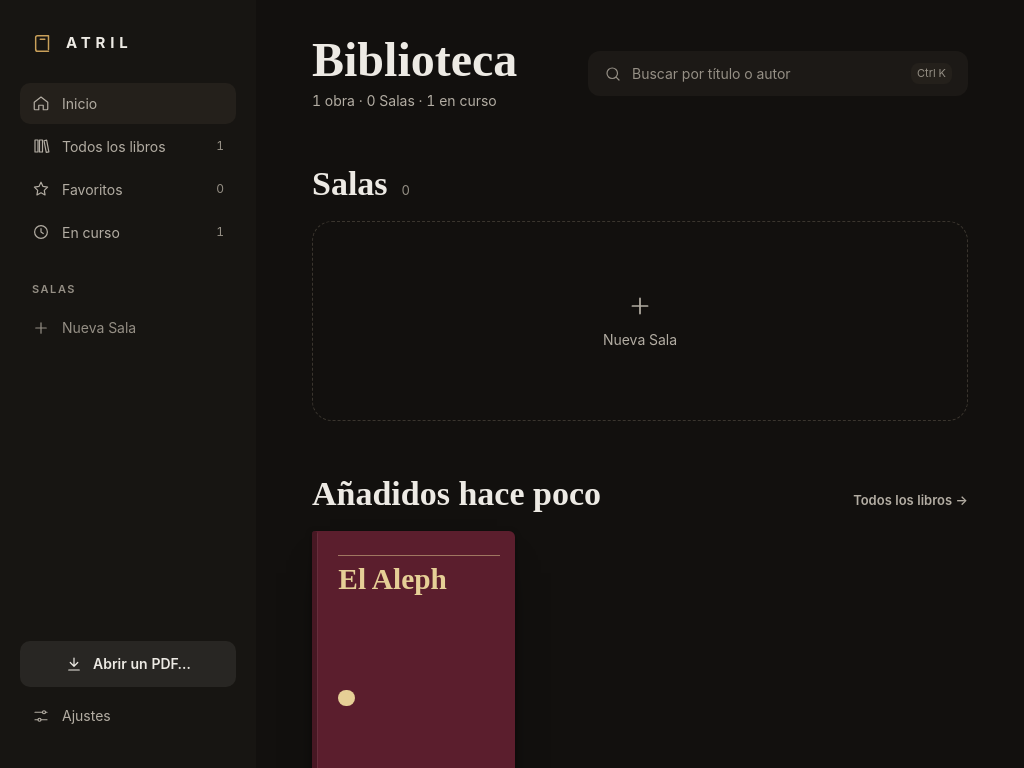
library errors › leaves a notice when the PDF chosen in the dialog is refused
The width and height of the screenshot is (1024, 768).
Step 1. Click the button "Abrir un PDF…" → point(128, 664), box [20,641,236,687]
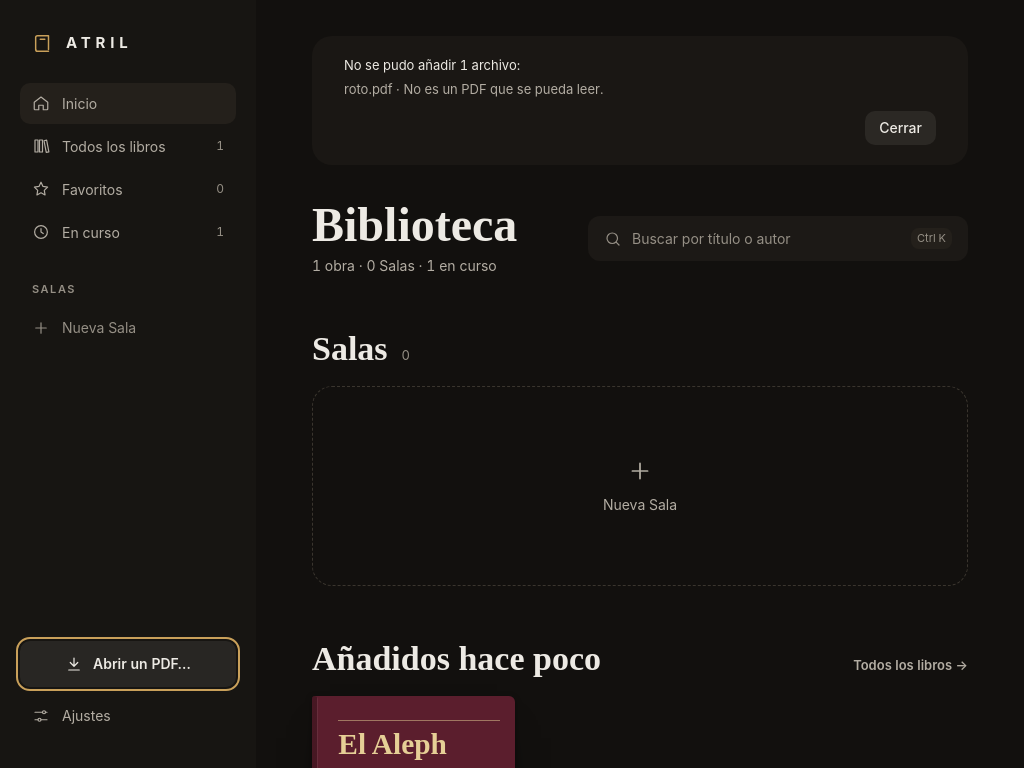
expect the text "roto.pdf · No es un PDF que se pueda leer." is shown: met, box [344,80,603,96]
expect the text "No se pudo añadir 1 archivo:" is shown: met, box [344,57,520,73]
